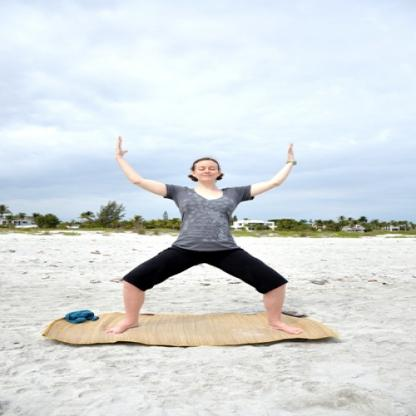godness: (95, 128, 324, 338)
